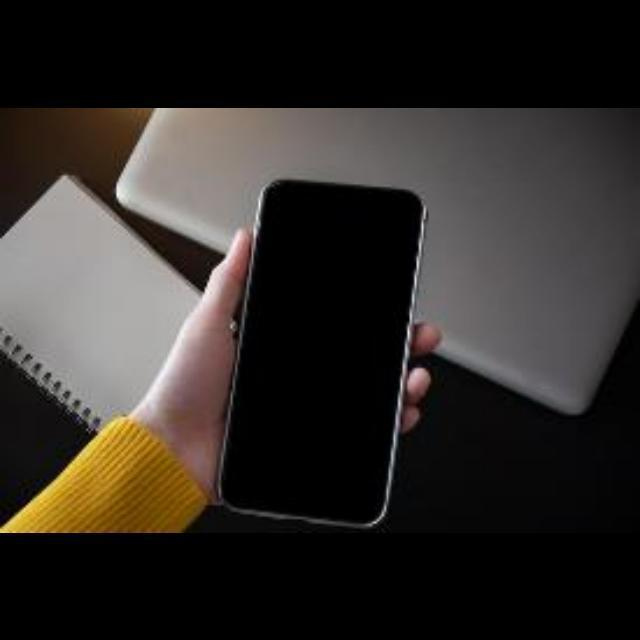phone: (233, 175, 413, 520)
